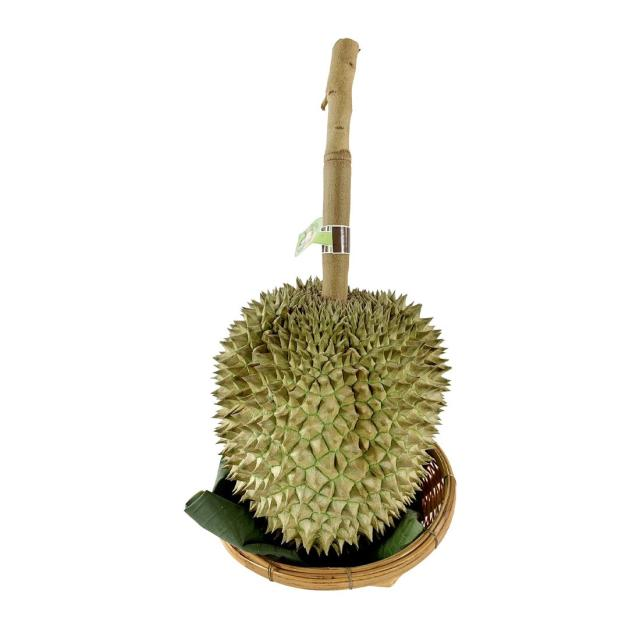immature: (208, 279, 454, 556)
